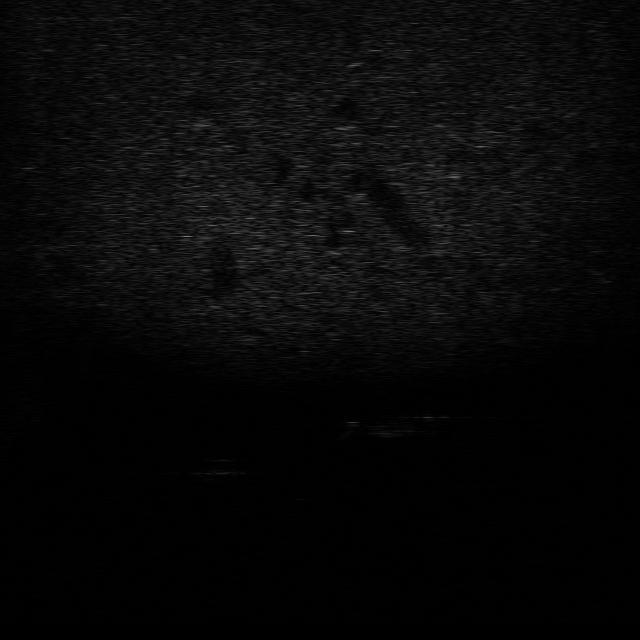ball: (188, 453, 248, 480)
human body: (338, 408, 448, 442)
